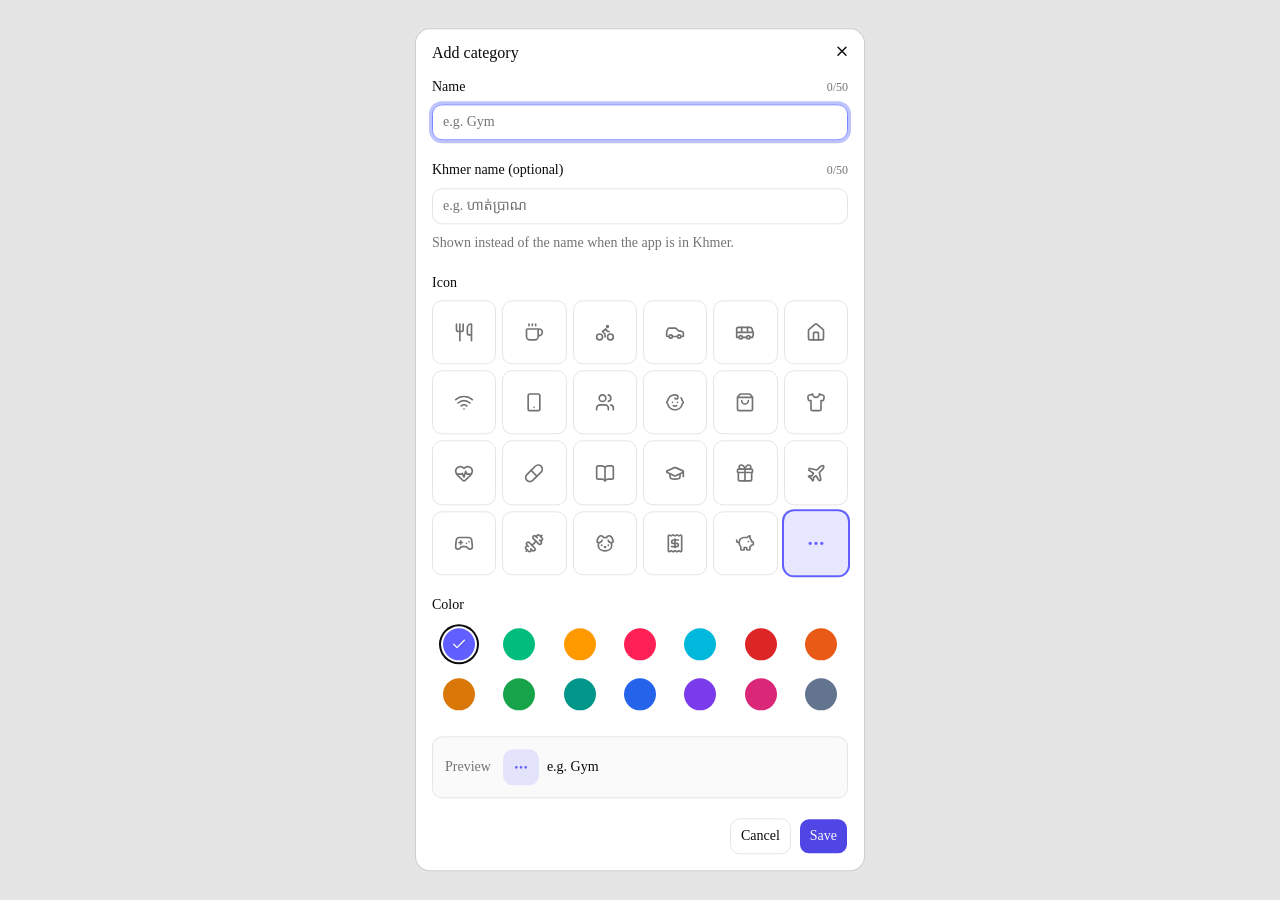
Test: CategoryFormDialog › shows the name-taken server error under the name field
In the field labelled "Name": (640, 123) [432, 105, 848, 141], type "Food"
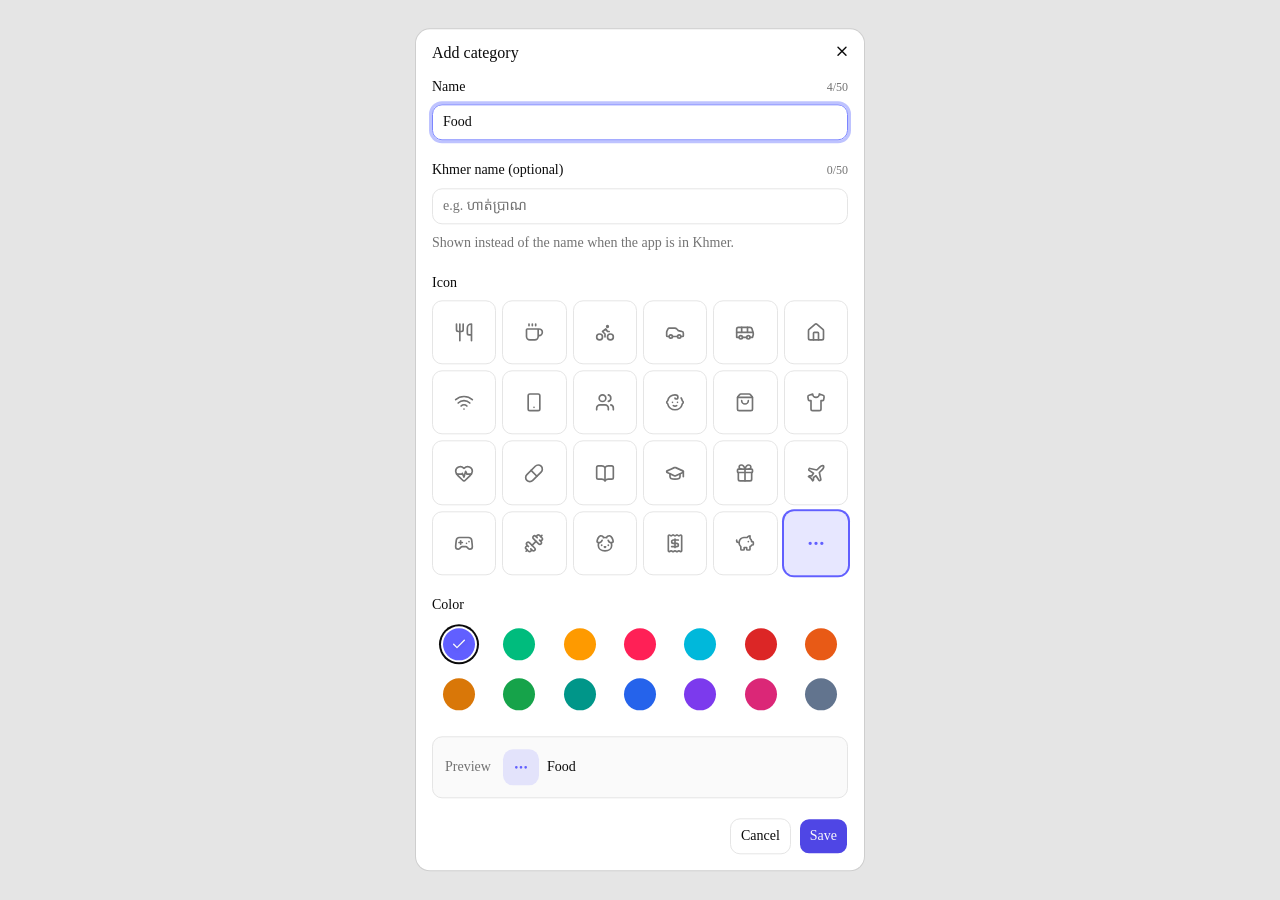
Click the button "Save": (823, 837) [799, 819, 848, 855]
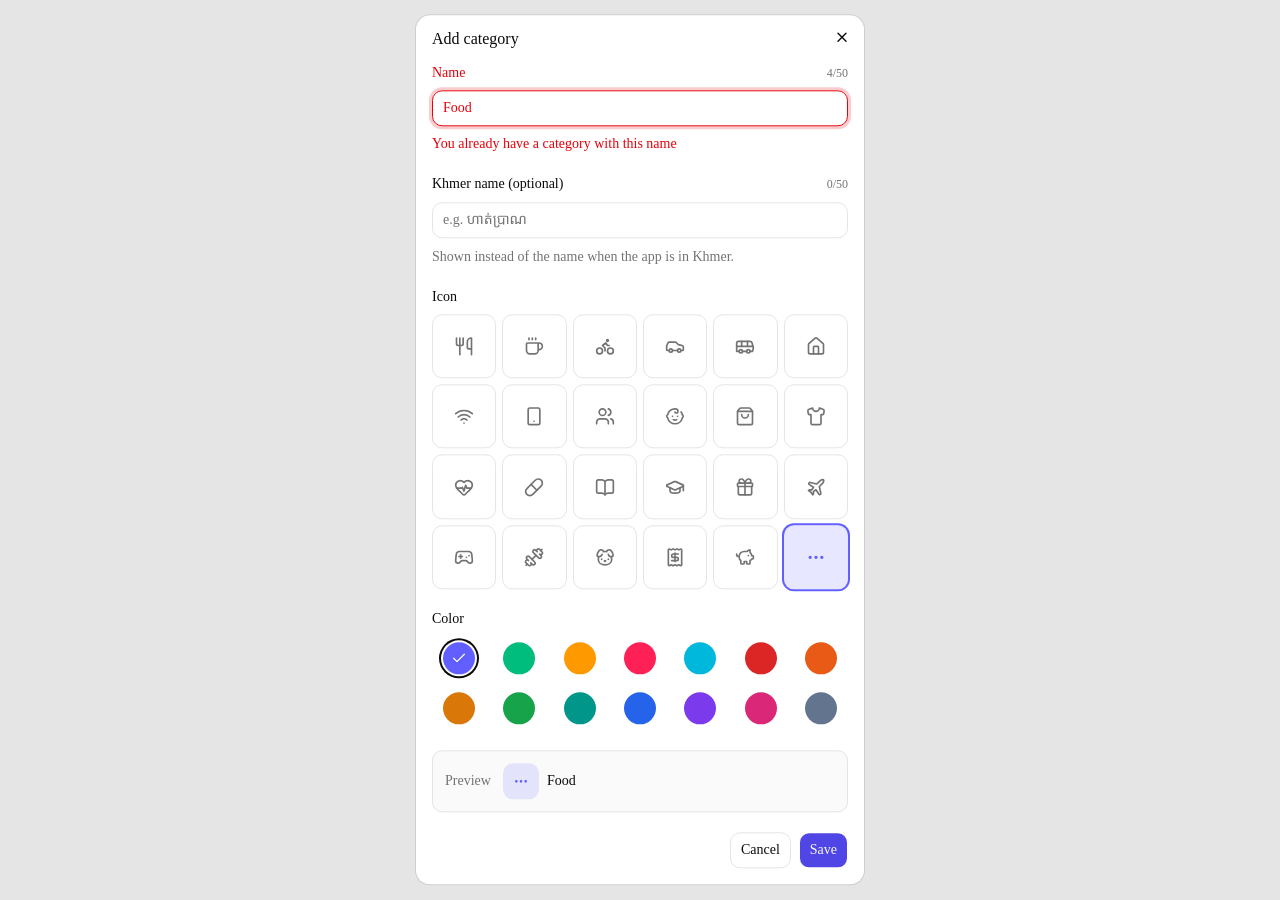
Check: the text "You already have a category with this name" is shown, box [432, 137, 677, 152]
